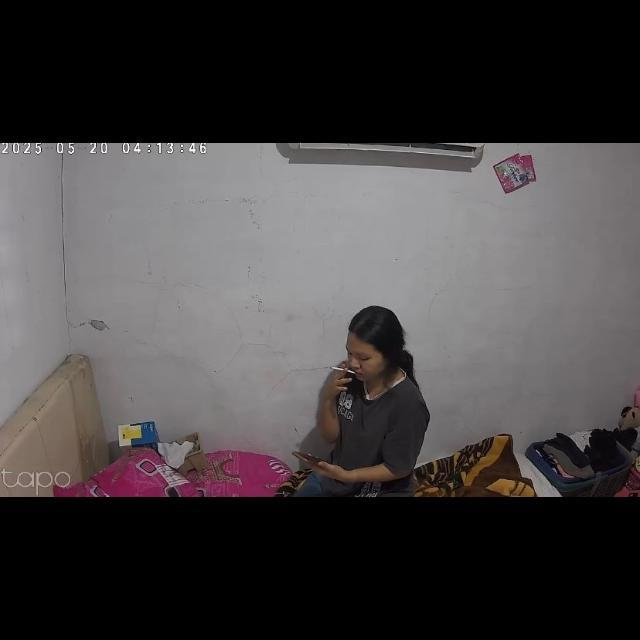rokok: (329, 364, 356, 374)
